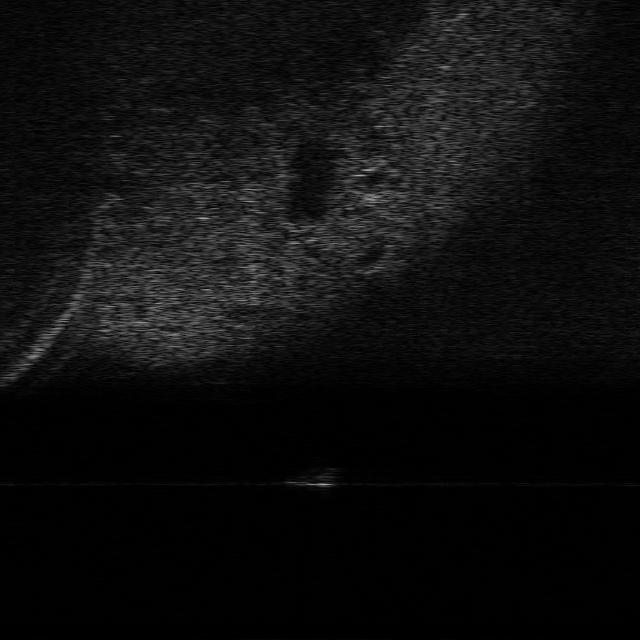cube: (291, 464, 339, 488)
